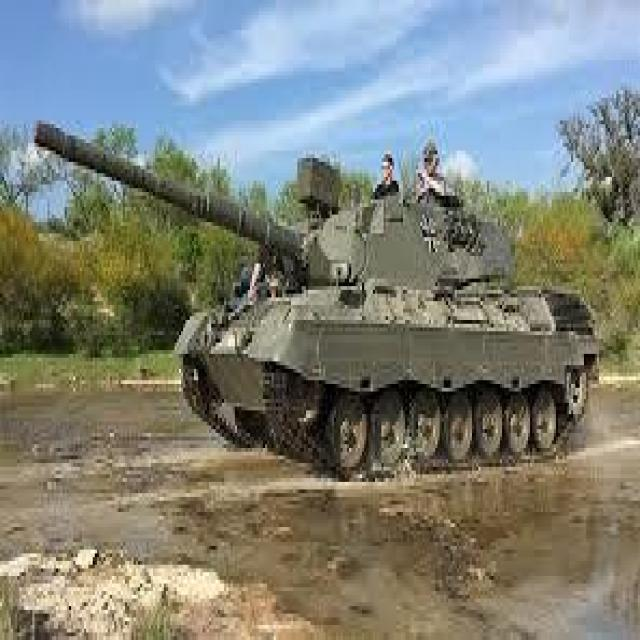MIL_MBT: (19, 32, 569, 574)
